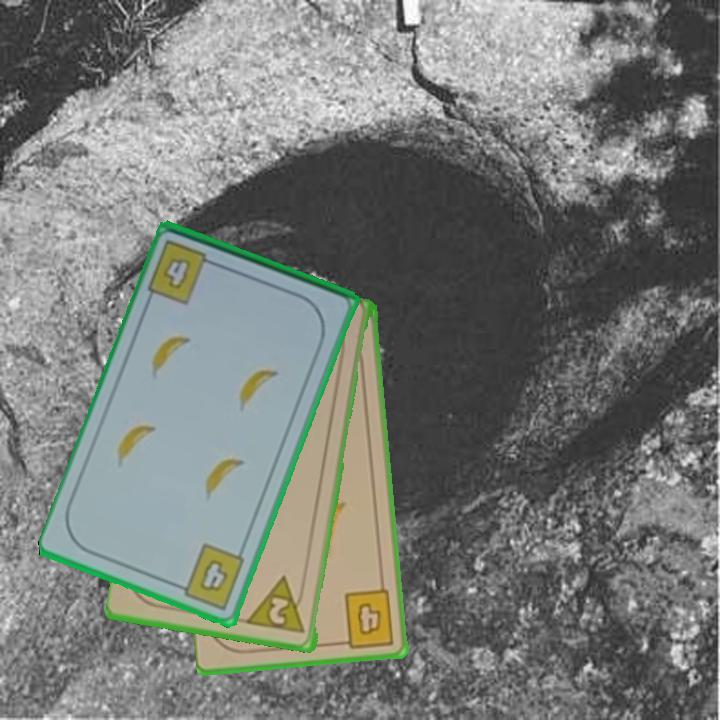2p: (245, 573, 308, 637)
4b: (144, 236, 223, 308), (172, 540, 248, 613), (335, 586, 397, 651)
